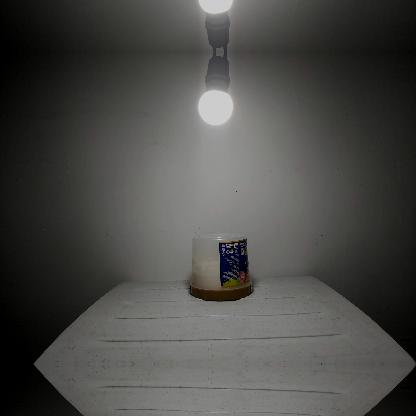Lady-s-Choice: (188, 231, 252, 301)
